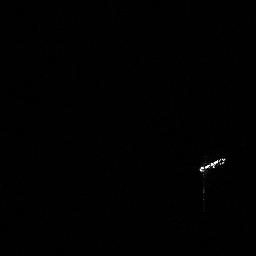ship: (194, 153, 229, 176)
